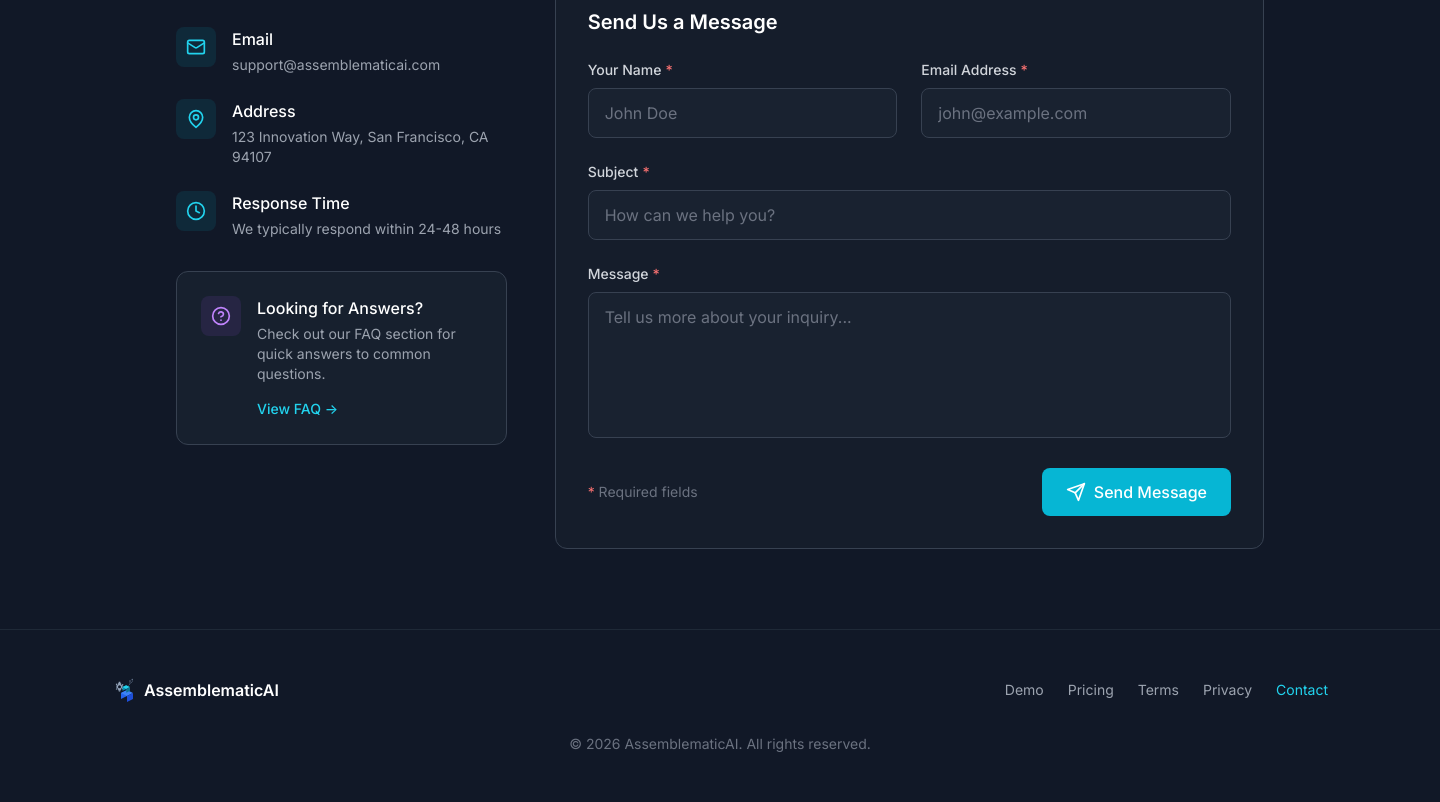
it: ContactPage › Form Validation › shows error when submitting with empty name
(page scrolled)
Click the button "Send Message" at x=1136, y=492, box [1042,468,1231,516]
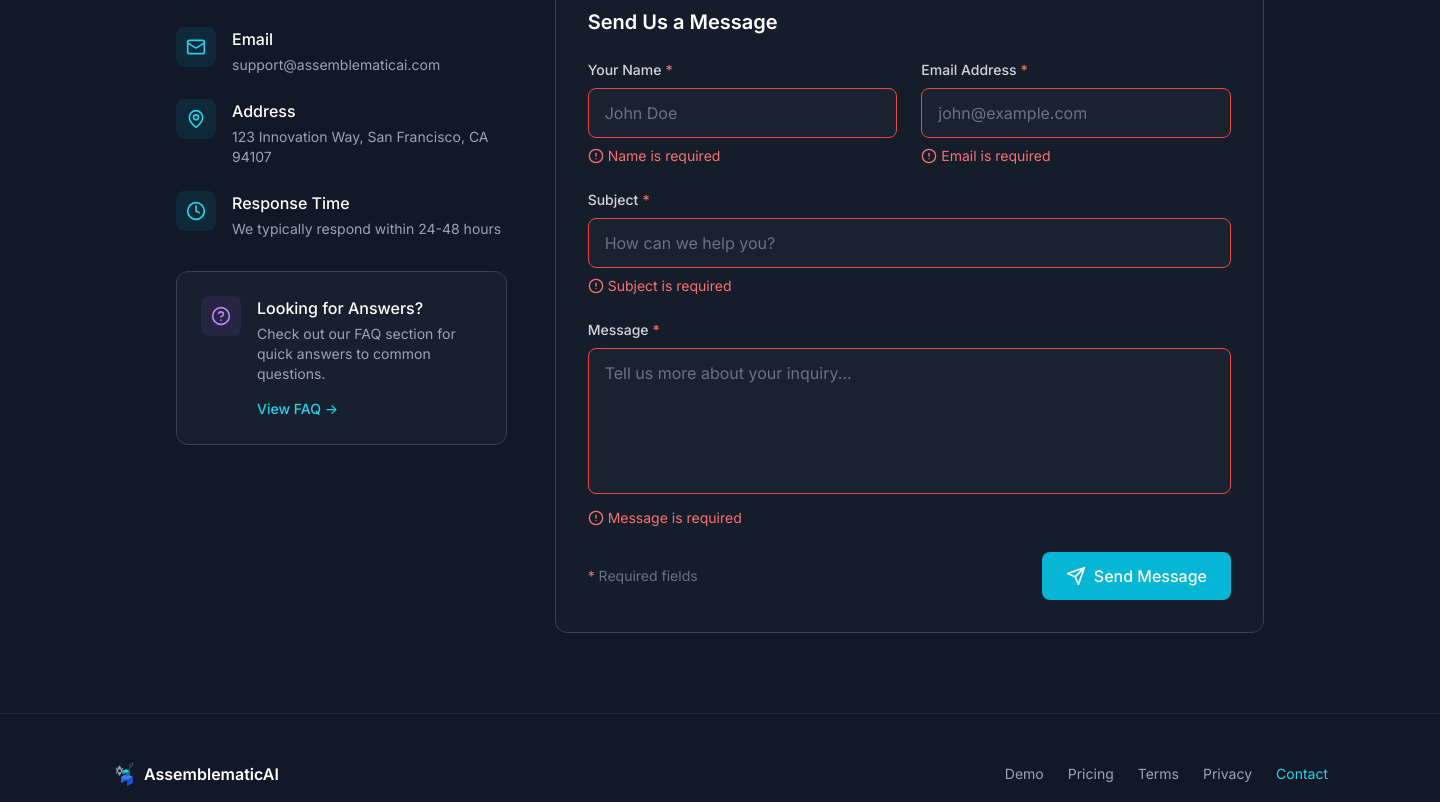
Check: the text "Name is required" is shown, box [588,147,720,164]
